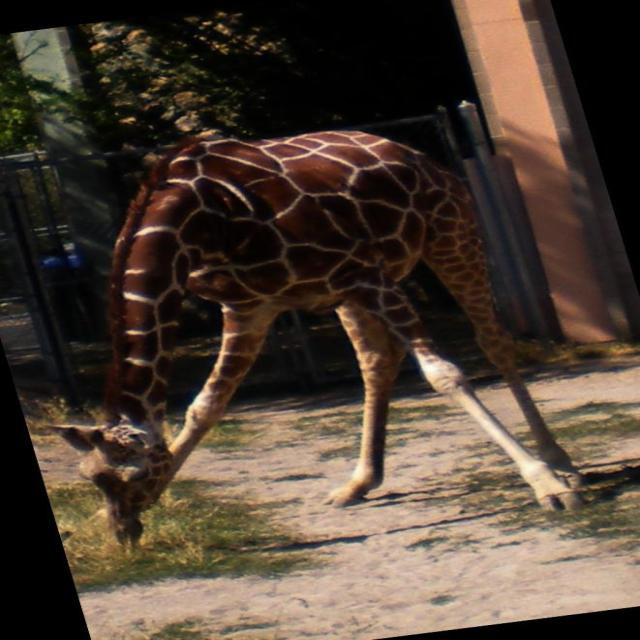Giraffe: (62, 113, 603, 541)
